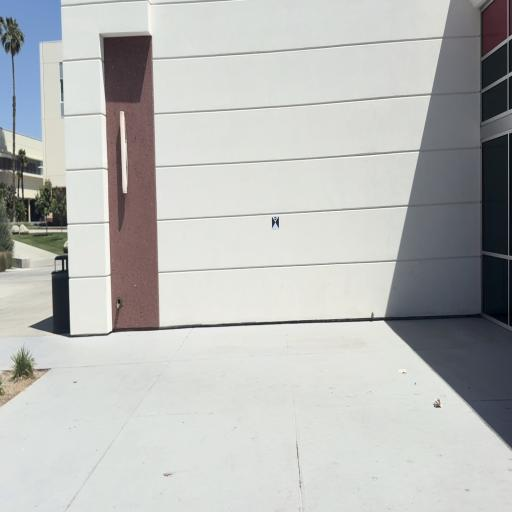target0: (271, 216, 279, 230)
